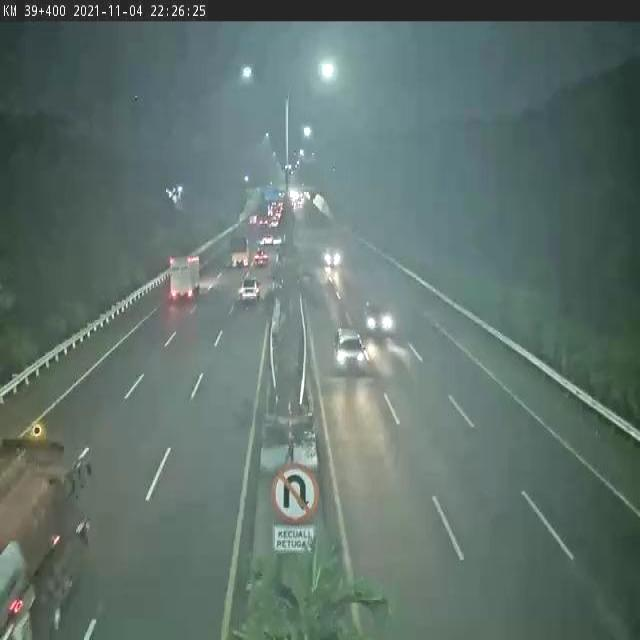Car: (328, 326, 374, 378), (361, 298, 397, 345), (317, 238, 350, 279), (237, 276, 263, 312), (250, 246, 271, 274)
Truck: (0, 404, 97, 640), (166, 250, 202, 315), (228, 229, 250, 270)
